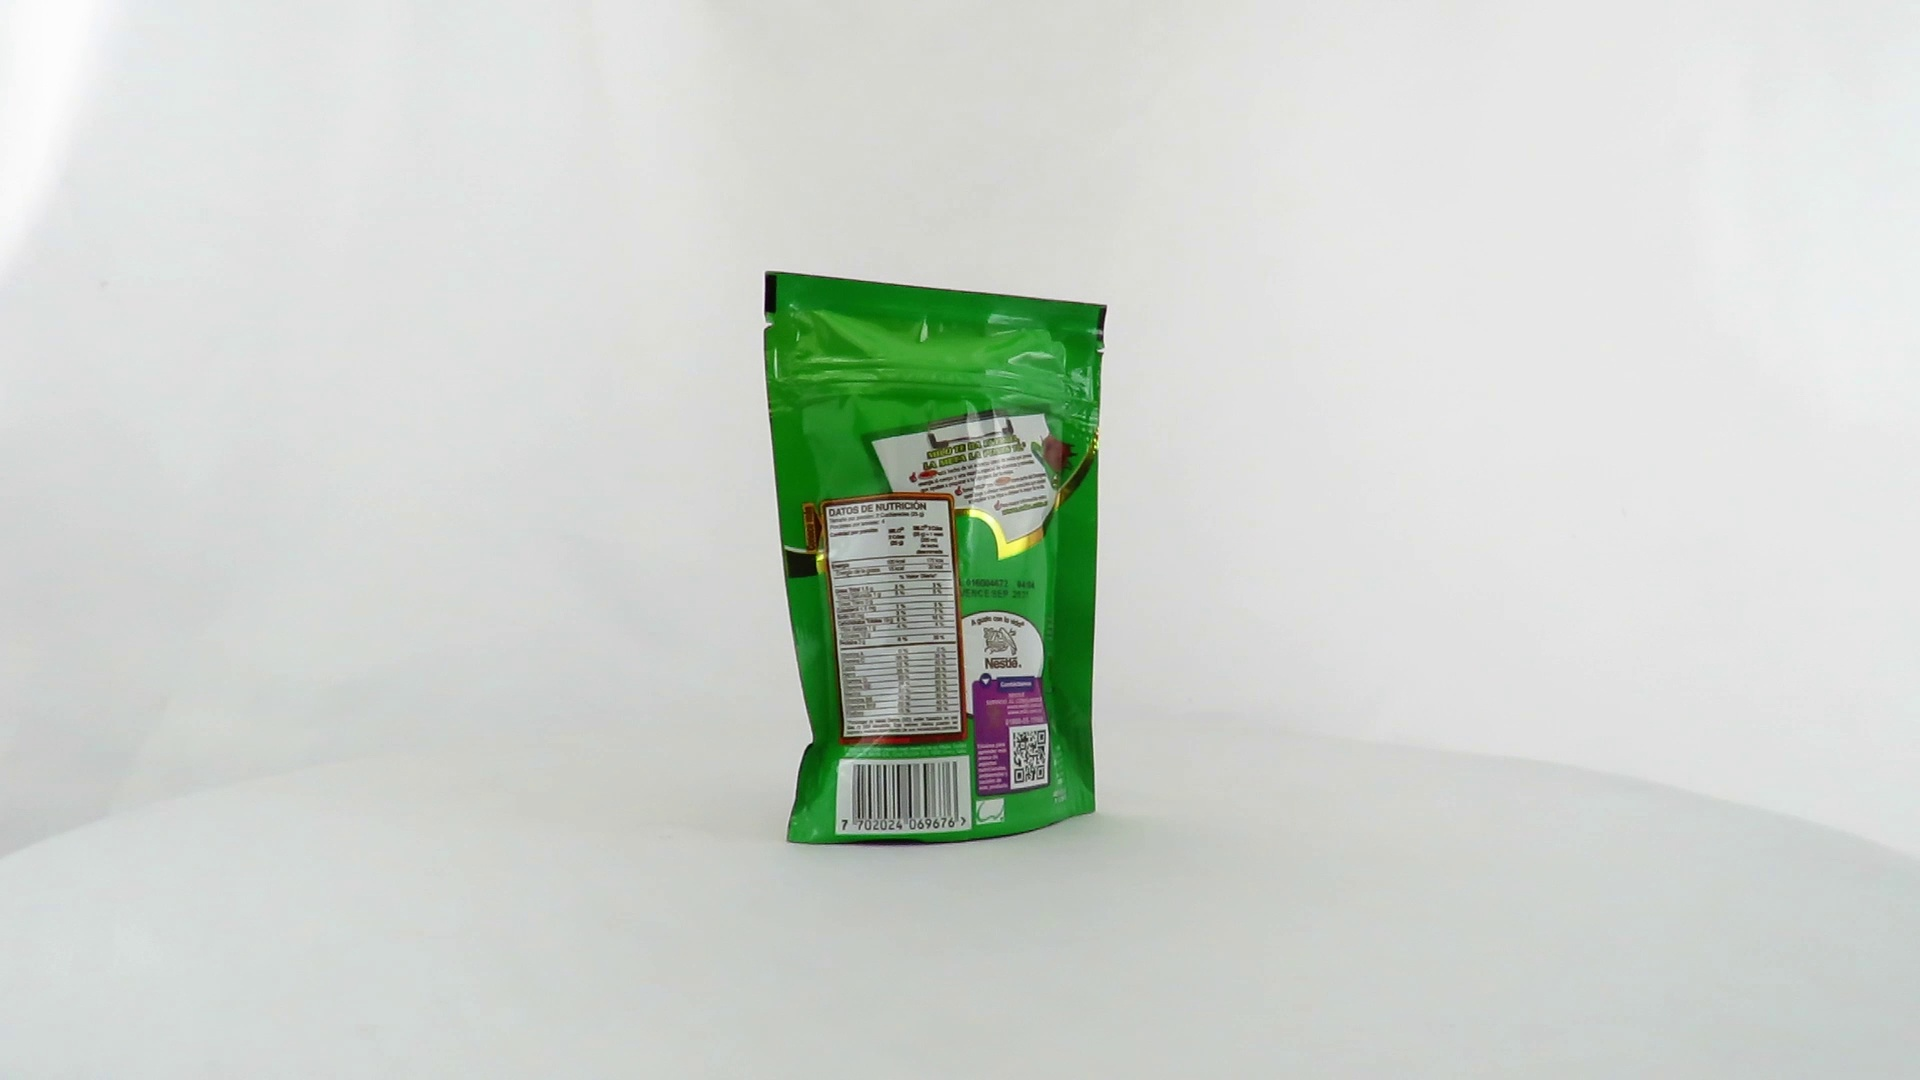COL0170203DYP10000: (758, 265, 1113, 852)
